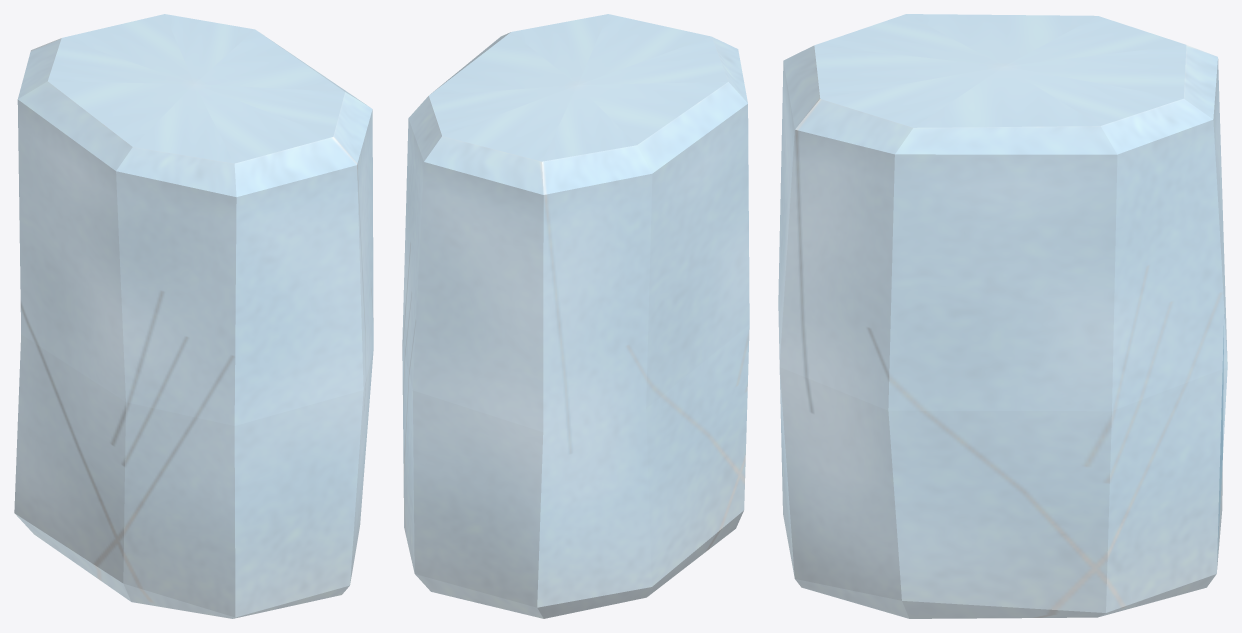
File: ice_block.glb
3 views of the same model, side by side, from view 1: azimuth 30°, elevation 25°; view 2: azimuth 150°, elevation 25°; view 3: azimuth 270°, elevation 25° (orthographic). The views are drawn at different scales.
Visible parts, largest first — view 1: Ice; view 2: Ice; view 3: Ice.
Boxes of the visible parts, box(x1,y1,x2,y2) form: Ice: box(14, 14, 373, 618); Ice: box(402, 14, 749, 618); Ice: box(778, 14, 1227, 618).
Size of the model in its own units: 1.45 by 2.47 by 2.04.
Materials: 1 (1 with a texture image).
